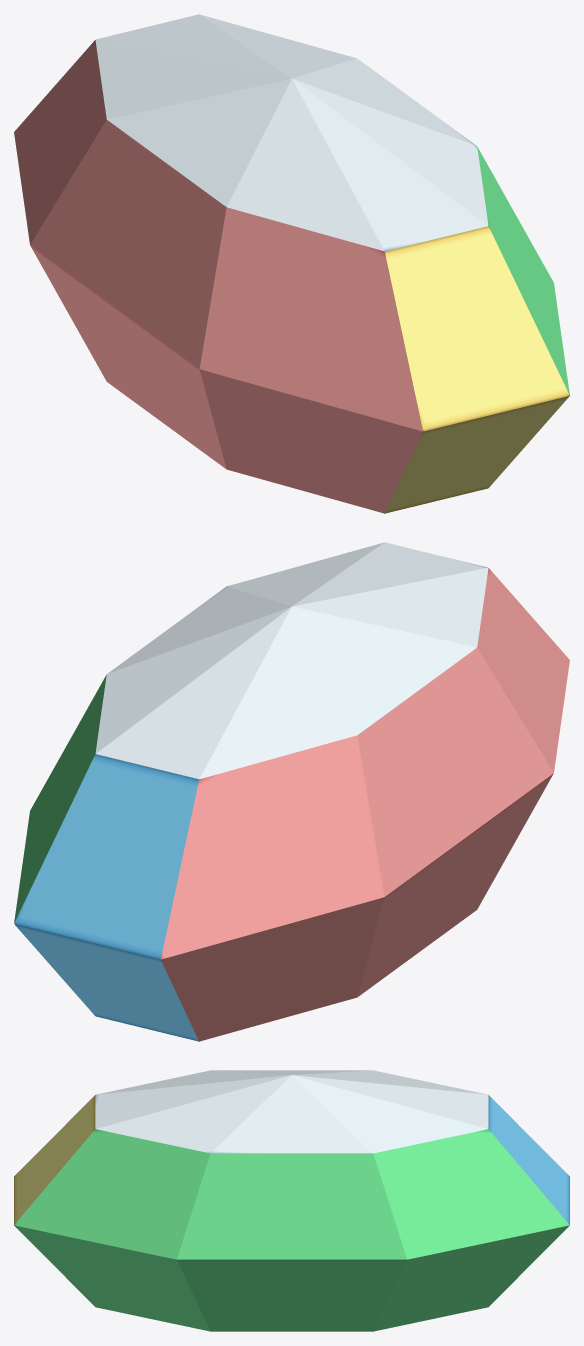
File: water.fbx
The picture shows the model from 3 angles, top to bottom: view 1: azimuth 30°, elevation 25°; view 2: azimuth 150°, elevation 25°; view 3: azimuth 270°, elevation 25°; orthographic projection. The views are drawn at different scales.
Parts seen in each view (by area): view 1: sphere; view 2: sphere; view 3: sphere.
Boxes of the visible parts, <box> form: sphere: <box>14,14,569,513</box>; sphere: <box>14,542,569,1041</box>; sphere: <box>14,1070,569,1331</box>.
Bounding box in the file's own units: 18.75 × 18.75 × 37.5.
Materials: 1 (1 with a texture image).
